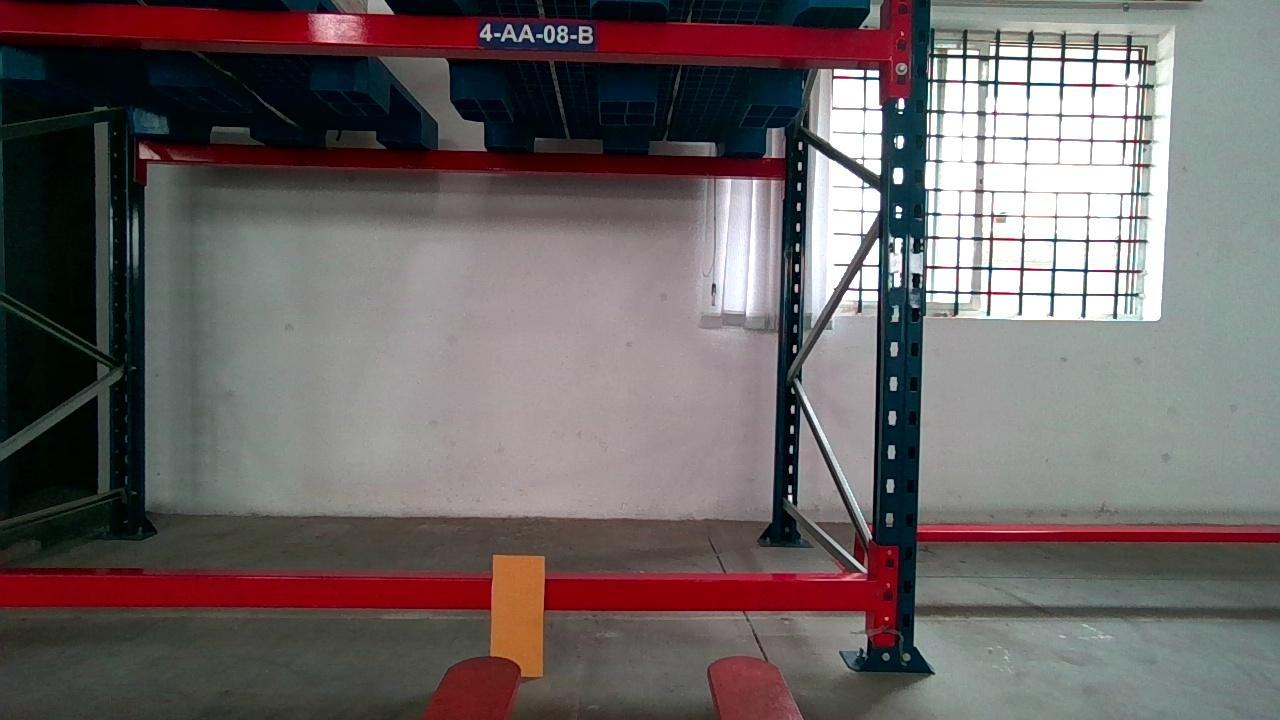h_rack: (0, 0, 897, 61)
orange_strip: (492, 552, 546, 677)
